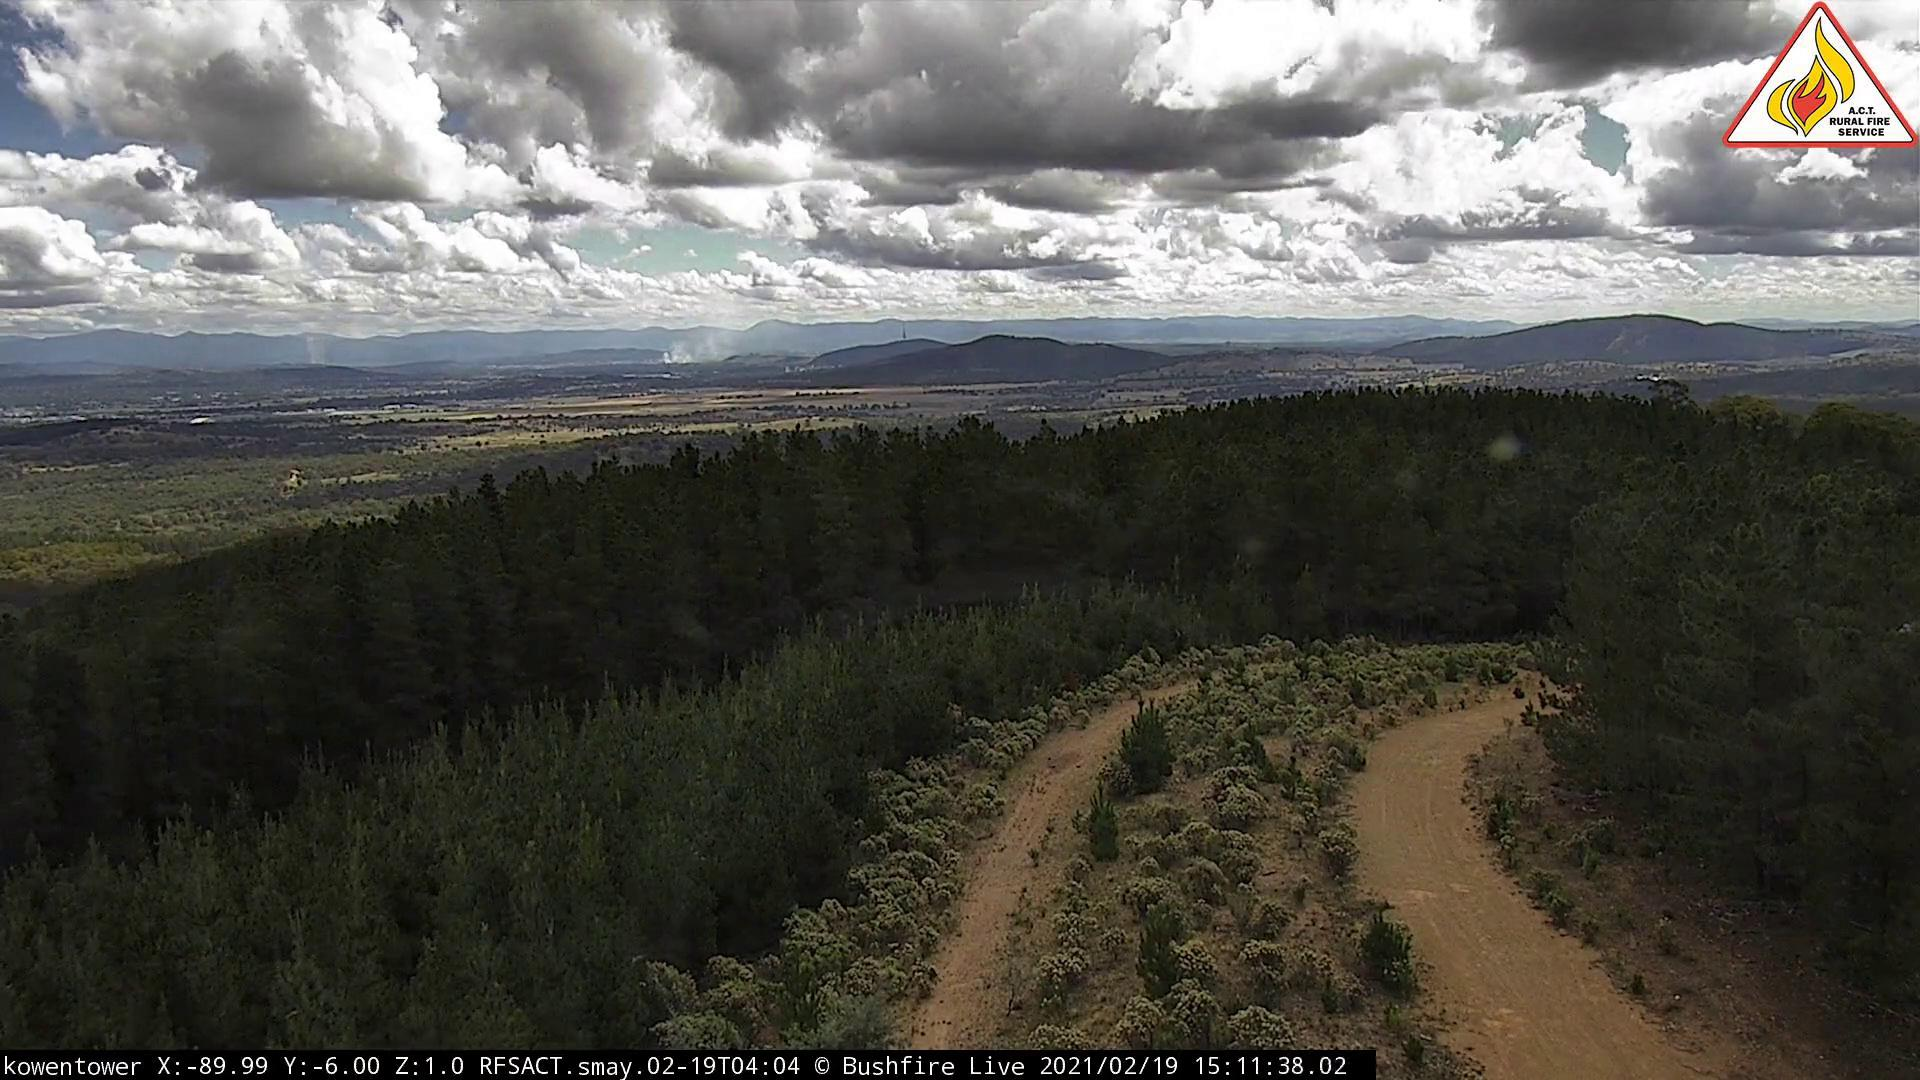instance_salient_object: (649, 294, 779, 375), (295, 299, 359, 373)
